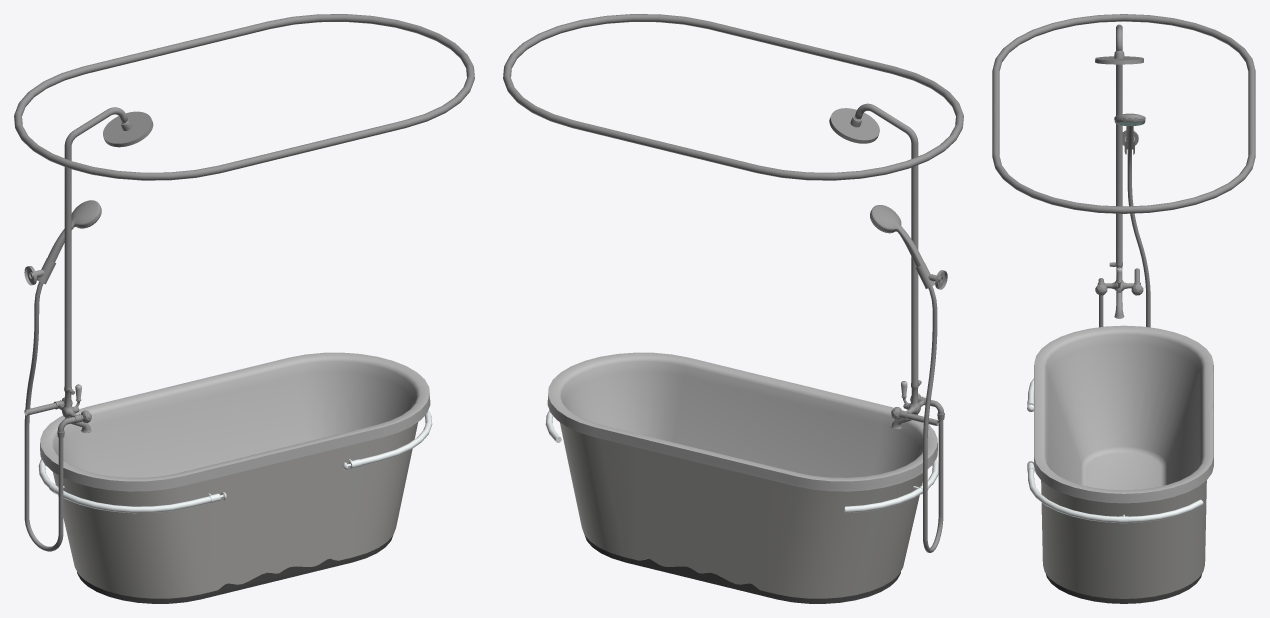
Rendered from visual_LowPoly_04_ShowerAndBath.dae.
The picture shows the model from 3 angles, left to right: view 1: azimuth 30°, elevation 25°; view 2: azimuth 150°, elevation 25°; view 3: azimuth 270°, elevation 25°; orthographic projection. The views are drawn at different scales.
Parts seen in each view (by area): view 1: SM_shower_bath; view 2: SM_shower_bath; view 3: SM_shower_bath.
Part boxes in pixels (bbox=[...]): SM_shower_bath: bbox=[14, 14, 474, 603]; SM_shower_bath: bbox=[503, 14, 963, 603]; SM_shower_bath: bbox=[992, 14, 1255, 603].
Size of the model in its own units: 206 by 117 by 220.
1 material, 1 textured.
